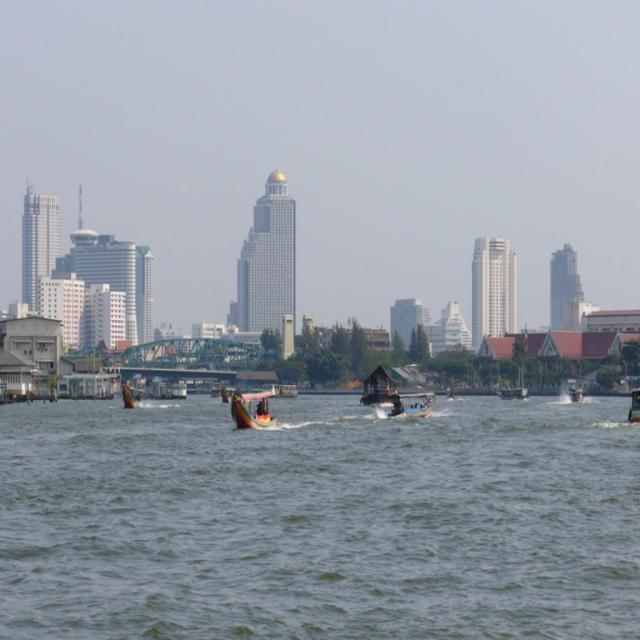Boat: (217, 383, 290, 442), (358, 362, 404, 419), (119, 383, 138, 411), (626, 390, 640, 424), (566, 376, 580, 404)
